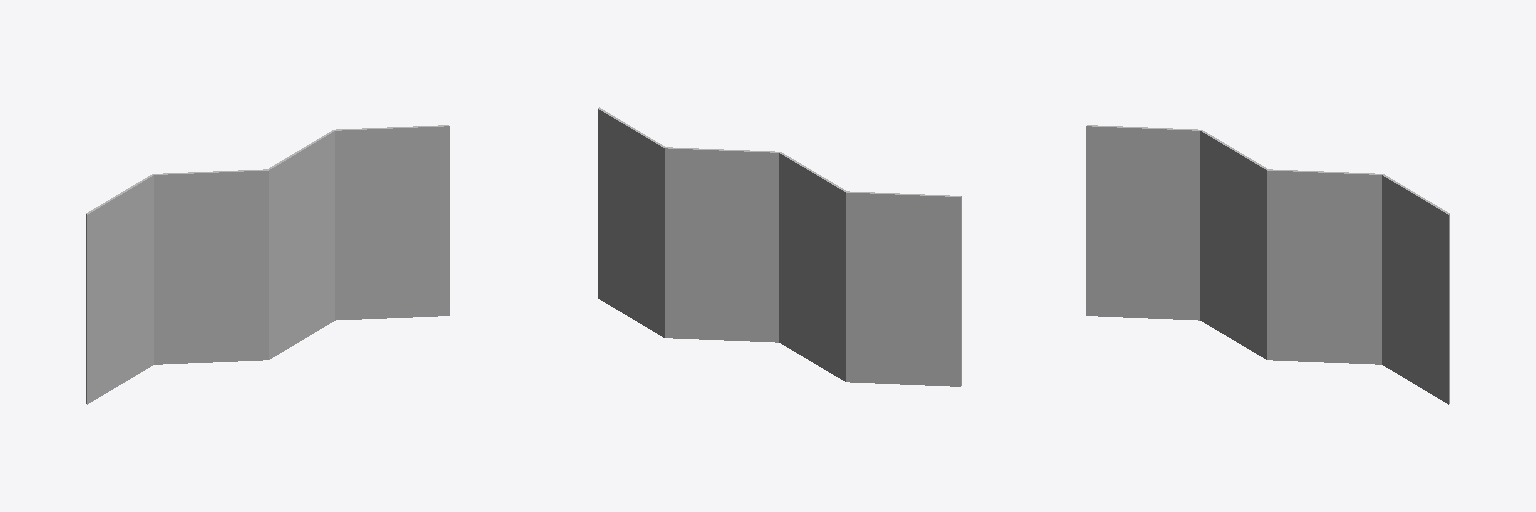
Rendered from ChangingDivider.obj.
The picture shows the model from 3 angles: view 1: azimuth 30°, elevation 25°; view 2: azimuth 150°, elevation 25°; view 3: azimuth 330°, elevation 25°; orthographic projection.
Parts seen in each view (by area): view 1: ChangingDivider; view 2: ChangingDivider; view 3: ChangingDivider.
Part boxes in pixels (x1,y1,x2,y2): ChangingDivider: (86,125,449,404); ChangingDivider: (598,107,961,386); ChangingDivider: (1086,125,1449,404).
Bounding box in the file's own units: 4 × 2 × 0.4898.